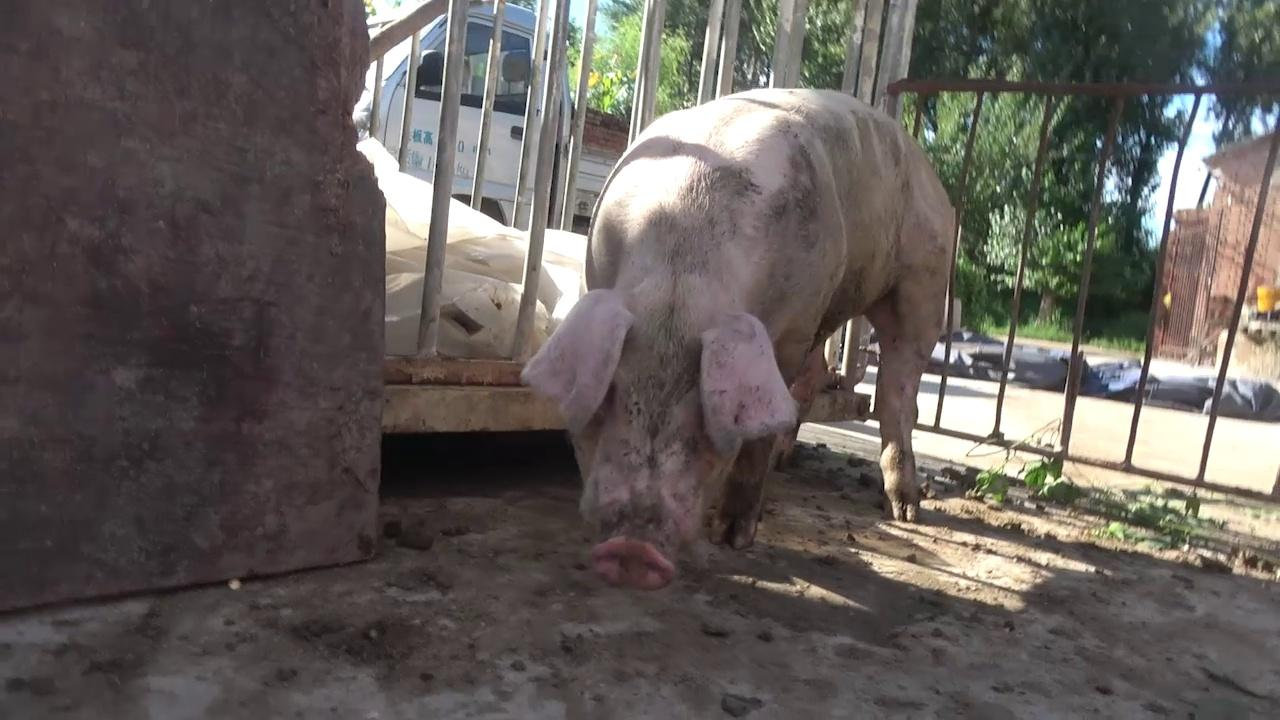Face: (512, 279, 810, 605)
